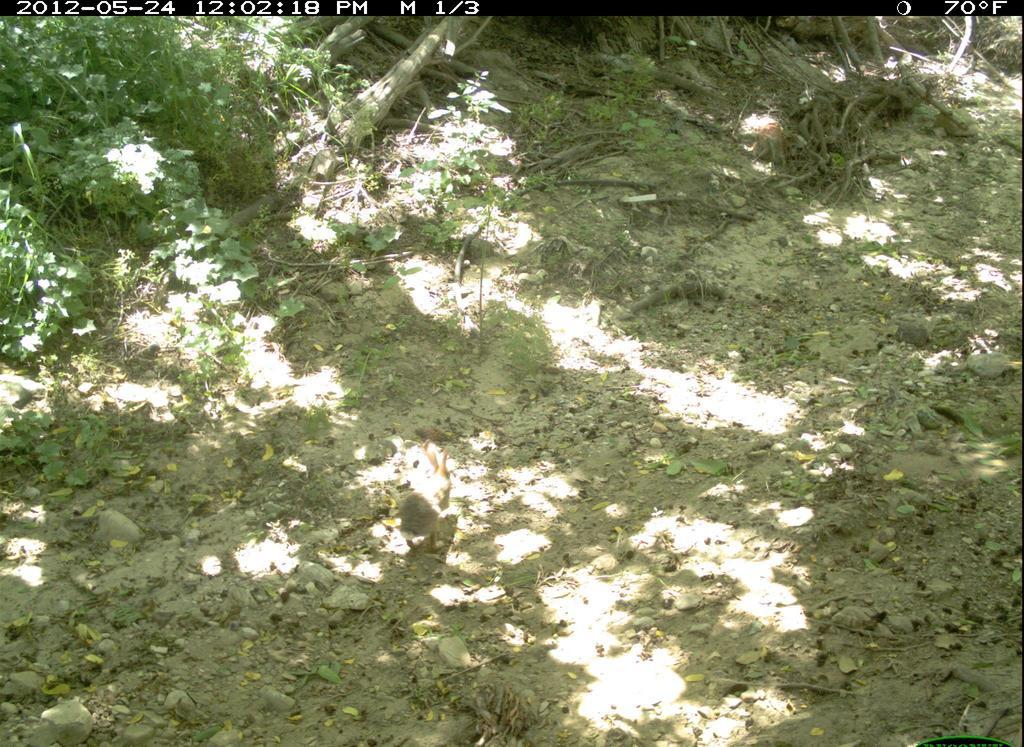rabbit: (395, 432, 464, 561)
